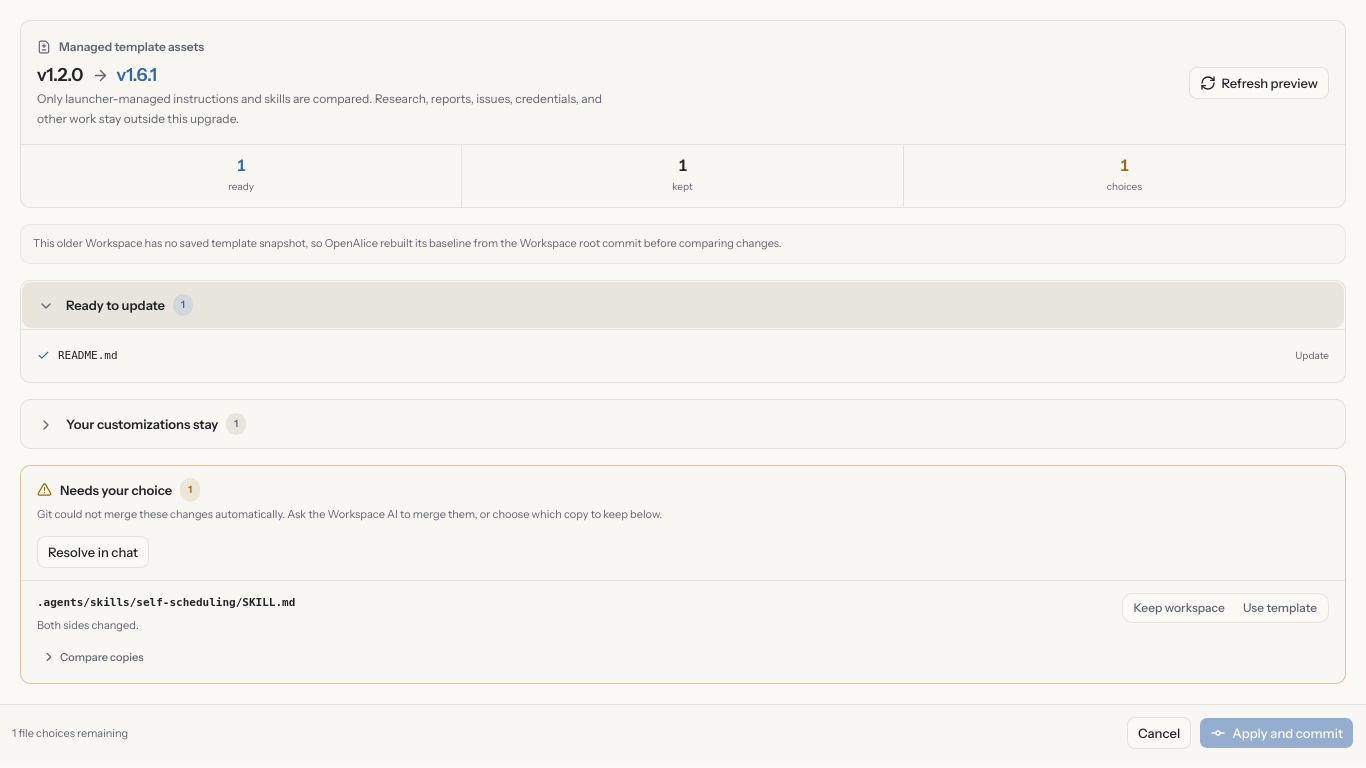
Test: WorkspaceTemplateUpgradePanel › applies the reviewed digest and refreshes to the recorded current baseline
Expected: the text "Needs your choice" is shown, [60,482,172,498]
Click the radio button labelled "Use template": (1280, 608) [1234,596,1326,620]
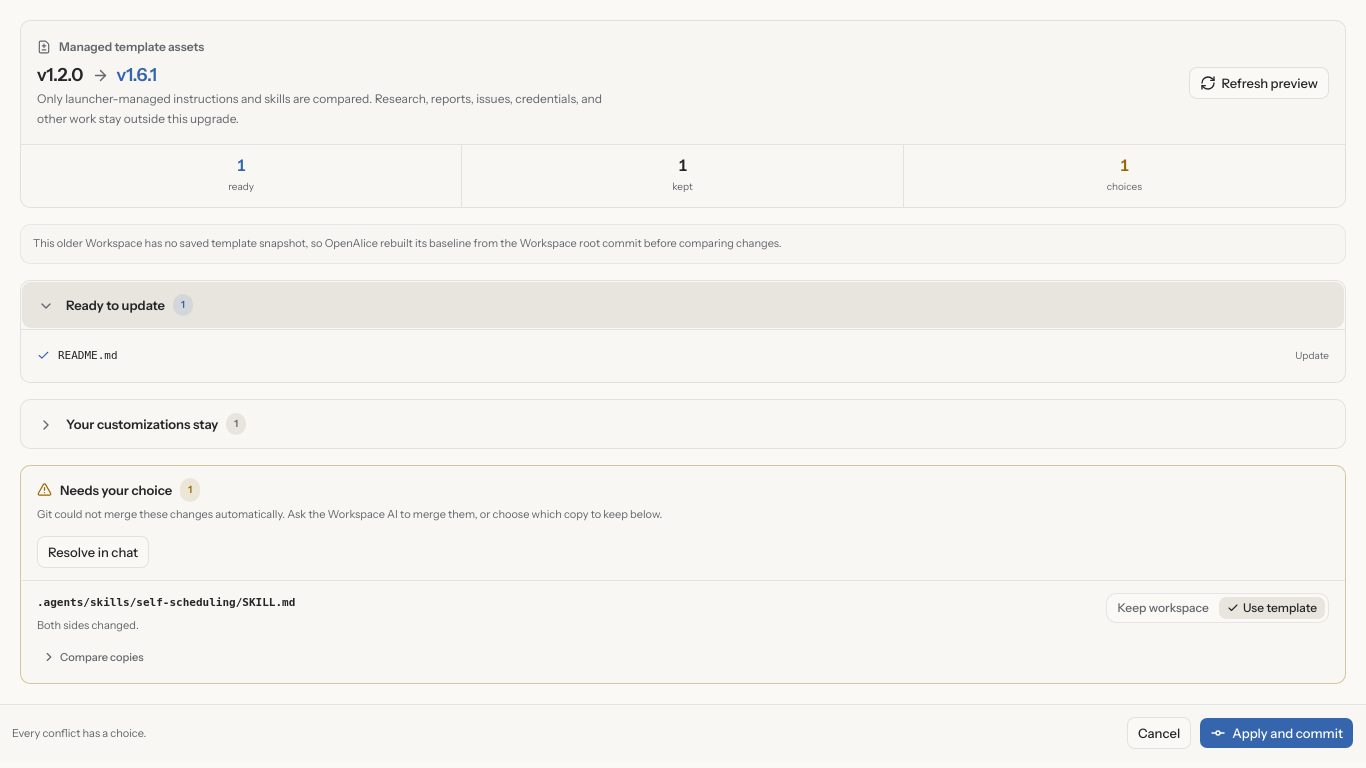
Click the button "Apply and commit": (1277, 733) [1199,717,1354,749]
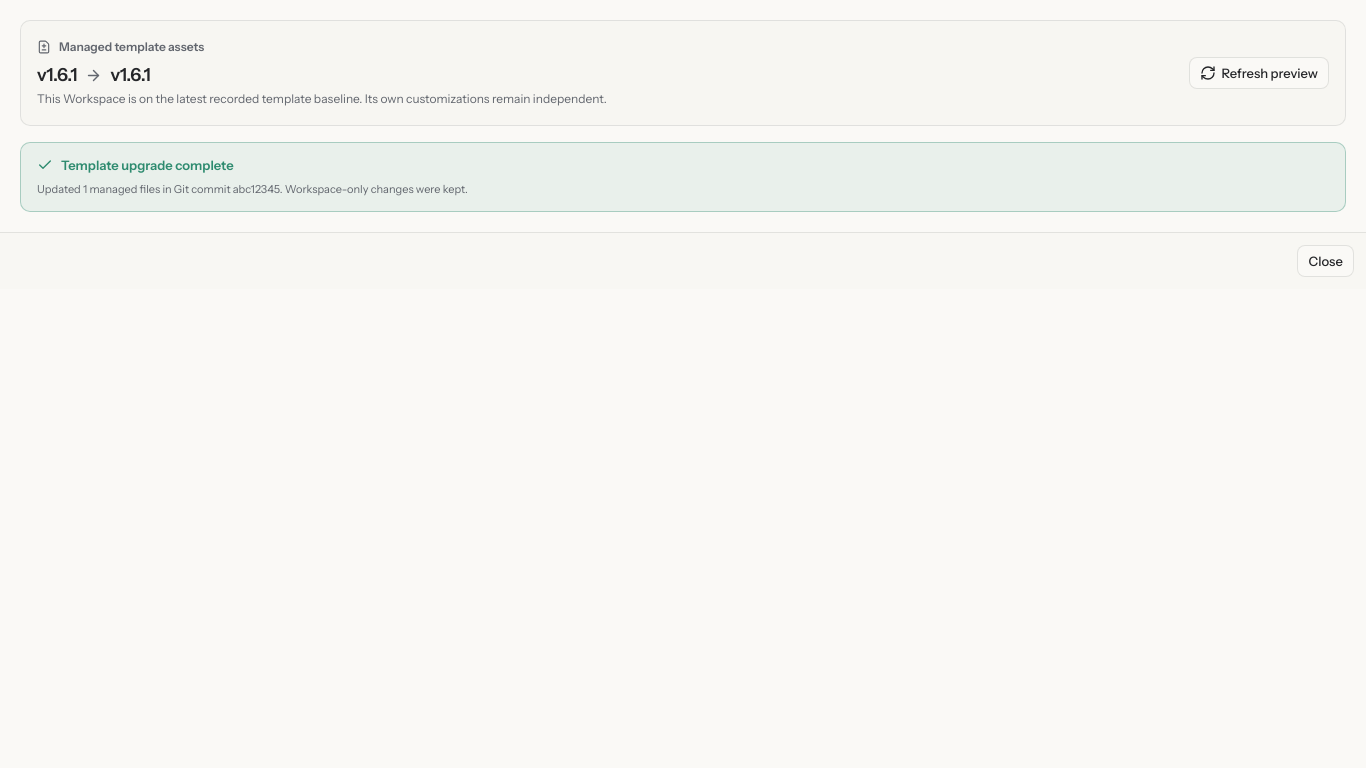
Now the text "Template upgrade complete" is shown, box [37,156,234,172]
